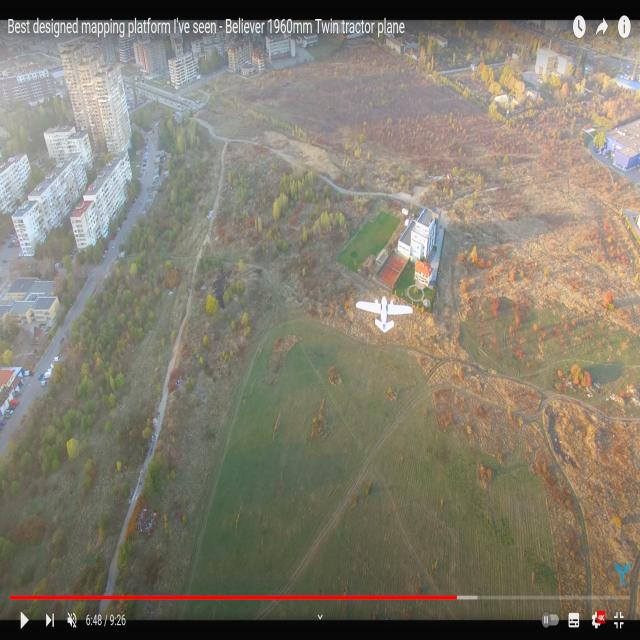iha: (358, 296, 412, 335)
